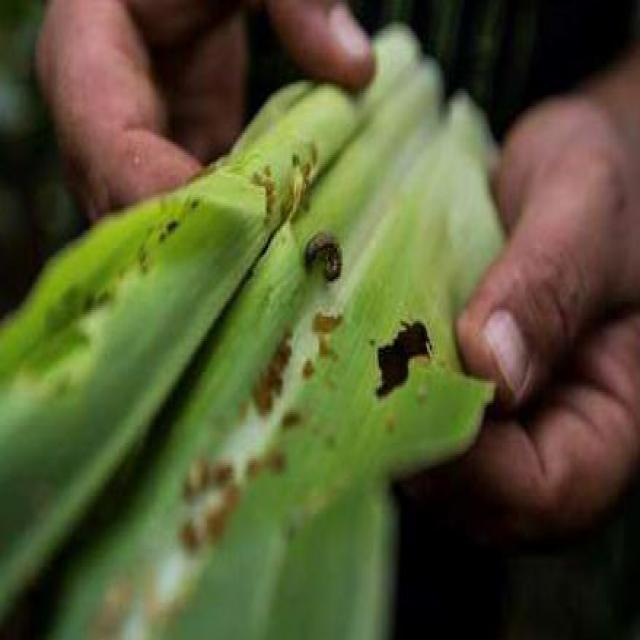armyworm: (306, 219, 351, 291)
